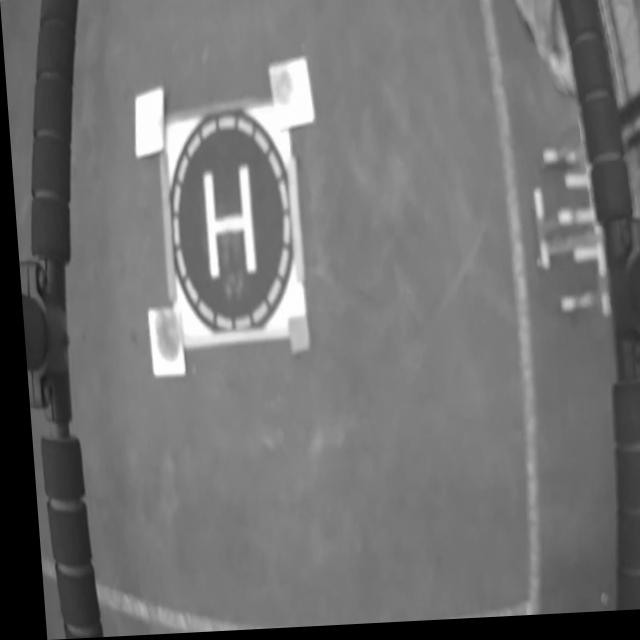Helipad: (201, 168, 253, 280)
